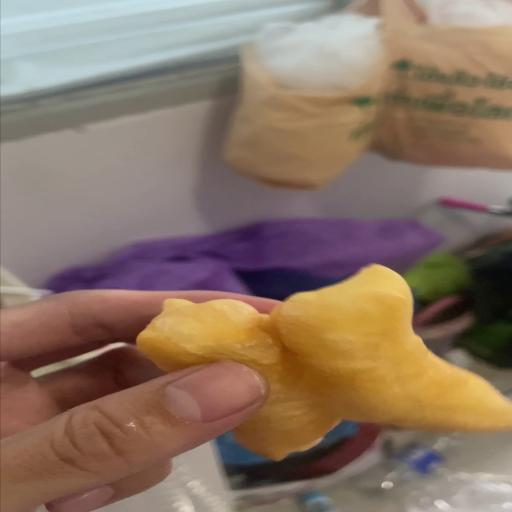street_golden_good: (138, 264, 510, 459)
